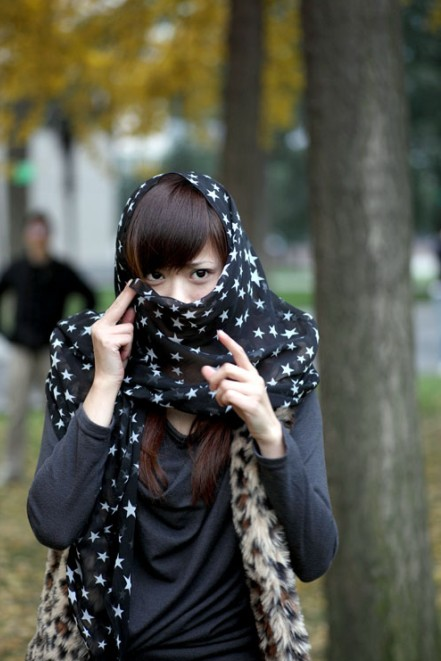face_mask: (137, 208, 224, 340)
